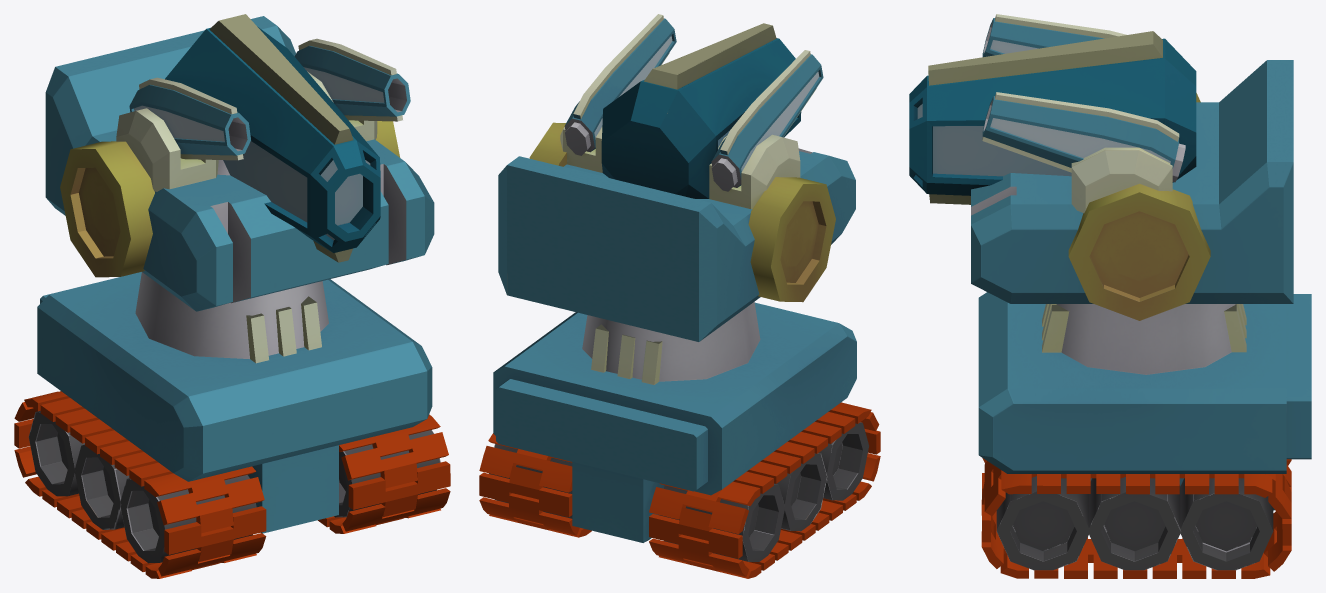
File: player_idle_1_upgrade8.obj
3 views of the same model, side by side, from view 1: azimuth 30°, elevation 25°; view 2: azimuth 150°, elevation 25°; view 3: azimuth 270°, elevation 25° (orthographic). The views are drawn at different scales.
Visible parts, largest first — view 1: Object004, Box038, Object012, Object011, Box042; view 2: Object004, Box038, Object012, Object011, Box042; view 3: Object004, Object011, Object012, Box042.
Boxes of the visible parts, x1=… form: Object004: x1=37, y1=14, x2=434, y2=533; Box038: x1=14, y1=391, x2=266, y2=578; Object012: x1=129, y1=38, x2=410, y2=160; Object011: x1=28, y1=411, x2=440, y2=563; Box042: x1=318, y1=414, x2=450, y2=533; Object004: x1=493, y1=23, x2=856, y2=542; Box038: x1=649, y1=402, x2=880, y2=578; Object012: x1=564, y1=14, x2=823, y2=191; Object011: x1=489, y1=422, x2=868, y2=561; Box042: x1=479, y1=433, x2=591, y2=537; Object004: x1=909, y1=31, x2=1311, y2=510; Object011: x1=996, y1=476, x2=1273, y2=570; Object012: x1=982, y1=14, x2=1185, y2=182; Box042: x1=981, y1=461, x2=1291, y2=578.
Size of the model in its own units: 110 by 178 by 136.
Materials: 4 (2 with a texture image).
